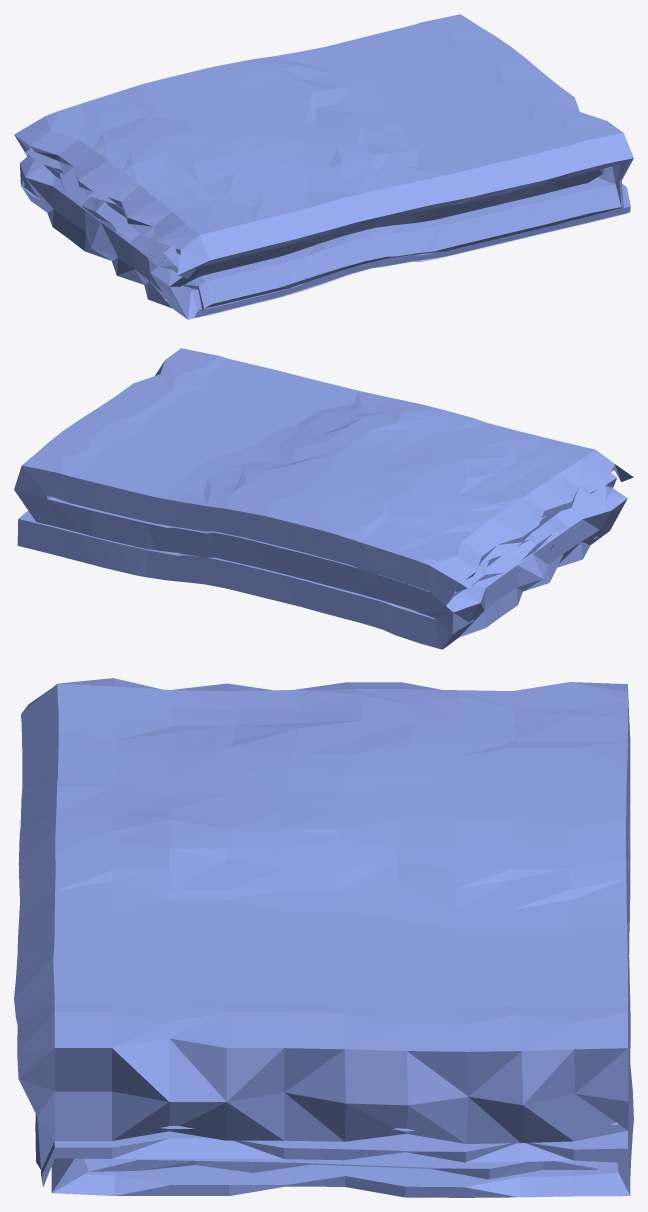
The model's file is sweethome3d-scopia-towel.glb.
The picture shows the model from 3 angles, top to bottom: view 1: azimuth 30°, elevation 25°; view 2: azimuth 150°, elevation 25°; view 3: azimuth 270°, elevation 25°; orthographic projection. The views are drawn at different scales.
Visible parts, largest first — view 1: 1_1; view 2: 1_1; view 3: 1_1.
Boxes of the visible parts, box(x1,y1,x2,y2) form: 1_1: box(14, 14, 633, 319); 1_1: box(14, 348, 633, 649); 1_1: box(14, 678, 633, 1197).
Bounding box in the file's own units: 17.87 × 3.39 × 11.65.
